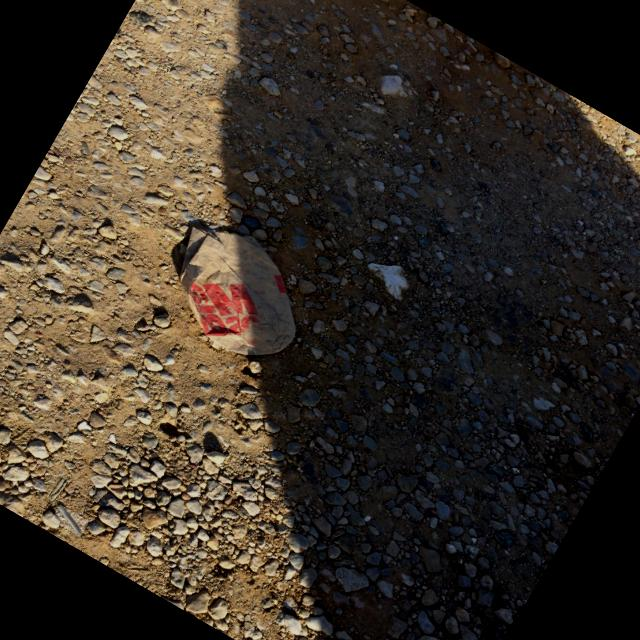Other plastic bottle: (58, 505, 82, 536)
Paper: (178, 228, 295, 356)
Unlabeled litter: (49, 480, 67, 502)
